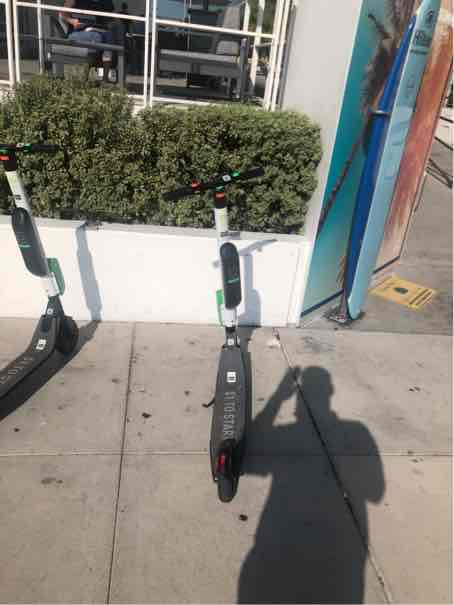scooter: (154, 159, 274, 507)
